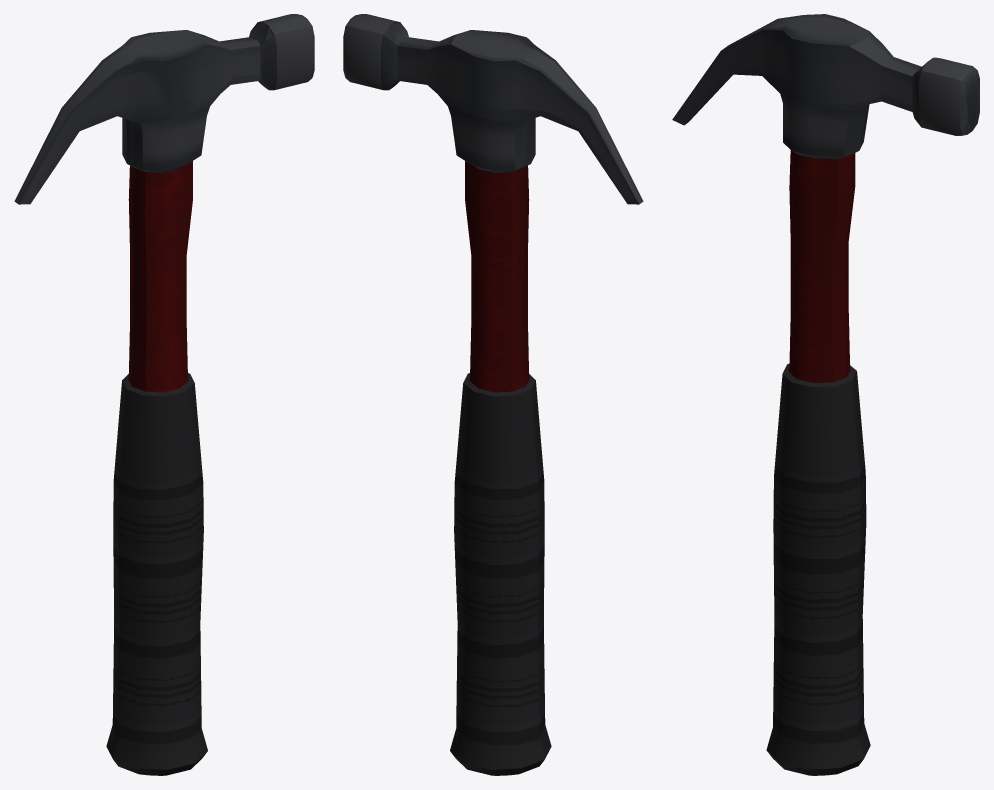
The model's file is Hammer.fbx.
3 views of the same model, side by side, from view 1: azimuth 30°, elevation 25°; view 2: azimuth 150°, elevation 25°; view 3: azimuth 330°, elevation 25° (orthographic). The views are drawn at different scales.
Visible parts, largest first — view 1: Hammer; view 2: Hammer; view 3: Hammer.
Boxes of the visible parts, <box> form: Hammer: <box>14,14,314,775</box>; Hammer: <box>343,14,643,775</box>; Hammer: <box>672,14,979,775</box>.
Size of the model in its own units: 39.63 by 93.73 by 11.48.
